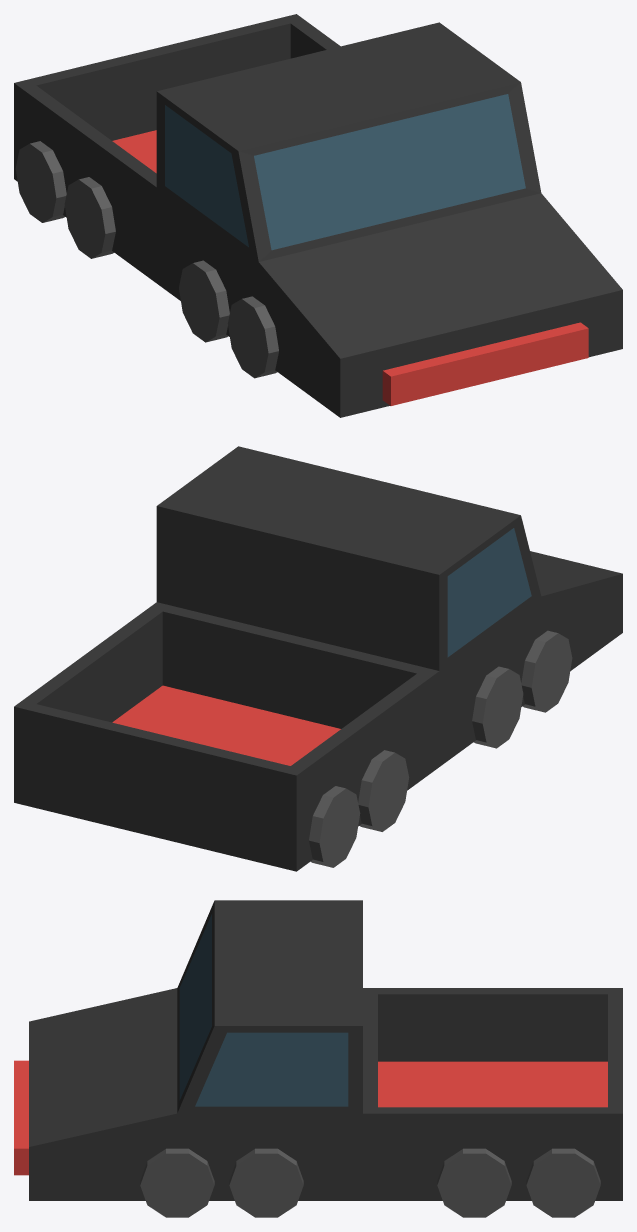
File: 3D_Printer_TD_4_Car.fbx
3 renders of one model, top to bottom at view 1: azimuth 30°, elevation 25°; view 2: azimuth 150°, elevation 25°; view 3: azimuth 270°, elevation 25°, orthographic. The views are drawn at different scales.
Parts seen in each view (by area): view 1: Car_4; view 2: Car_4; view 3: Car_4.
Boxes of the visible parts, x1,y1,x2,y2 form: Car_4: (14, 14, 622, 417); Car_4: (14, 446, 622, 871); Car_4: (14, 900, 622, 1217).
Size of the model in its own units: 430 by 278 by 820.
